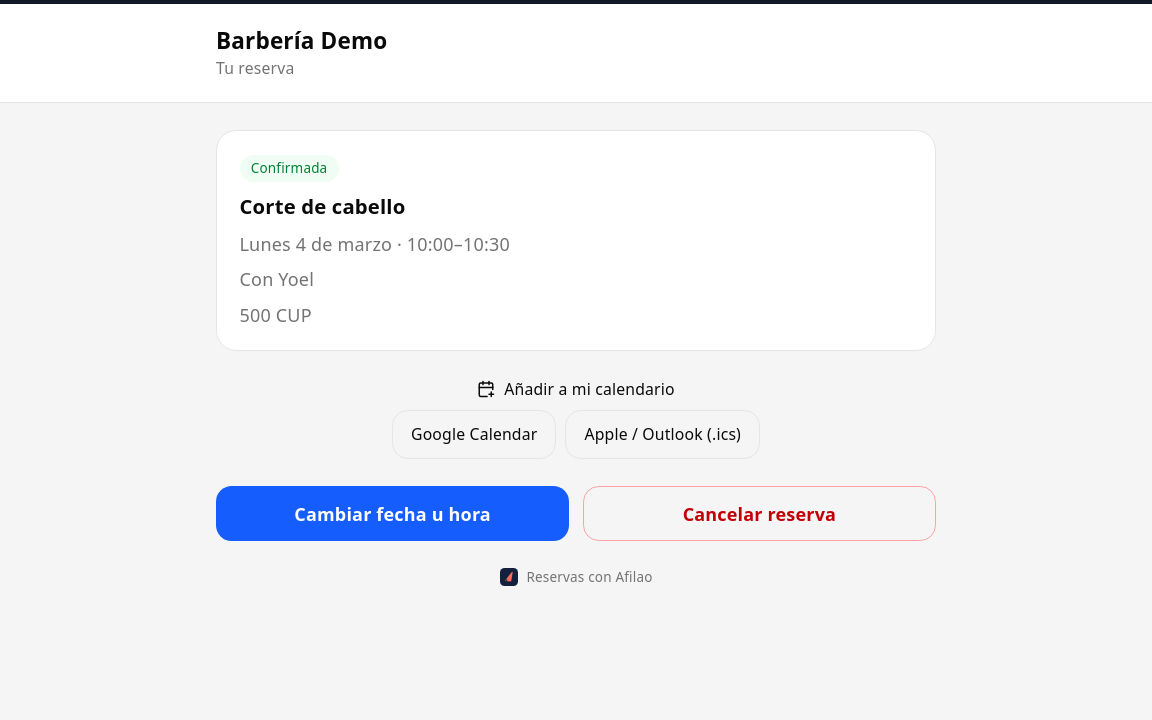
Test: Gestionar mi reserva (enlace secreto) › cancelar pide confirmación y, al aceptar, deja la reserva como cancelada
Click the button "Cancelar reserva" at coordinates (759, 514), box [583,486,936,541]
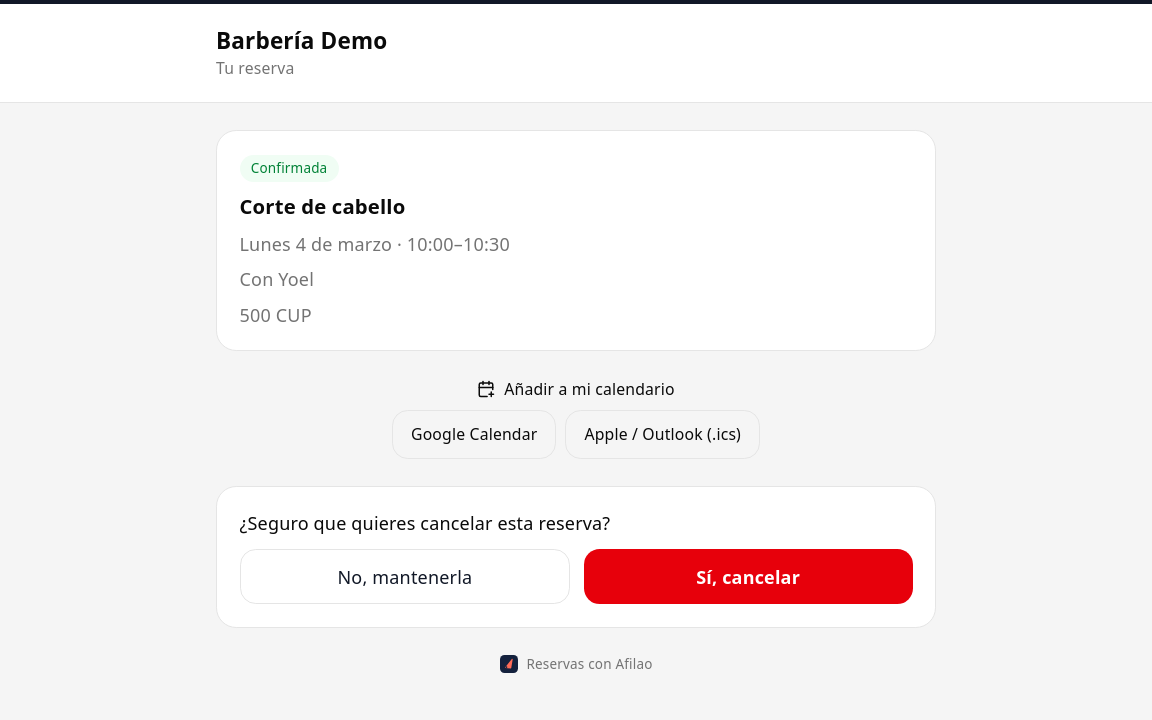
Expected: the text "¿Seguro que quieres cancelar esta reserva?" is shown, [240,511,610,535]
// «No, mantenerla» no cancela
Click the button "No, mantenerla" at coordinates (405, 577), box [240,549,570,604]
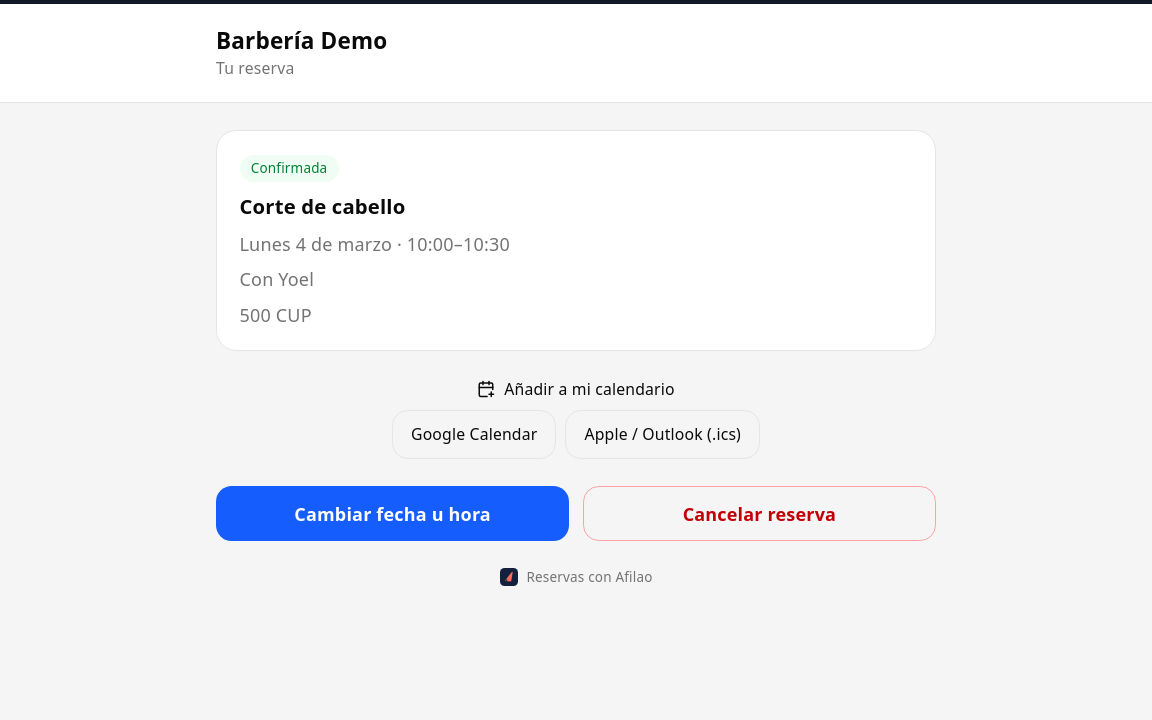
Click the button "Cancelar reserva" at coordinates (759, 514), box [583,486,936,541]
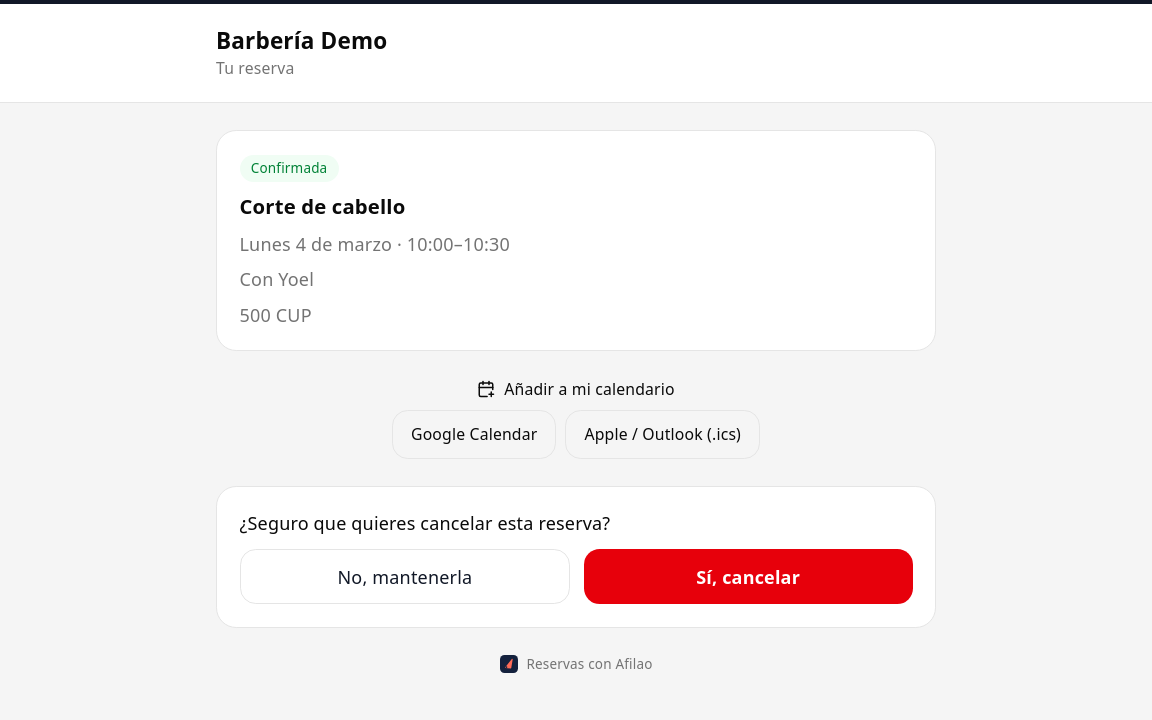
Click the button "Sí, cancelar" at coordinates (748, 577), box [584,549,913,604]
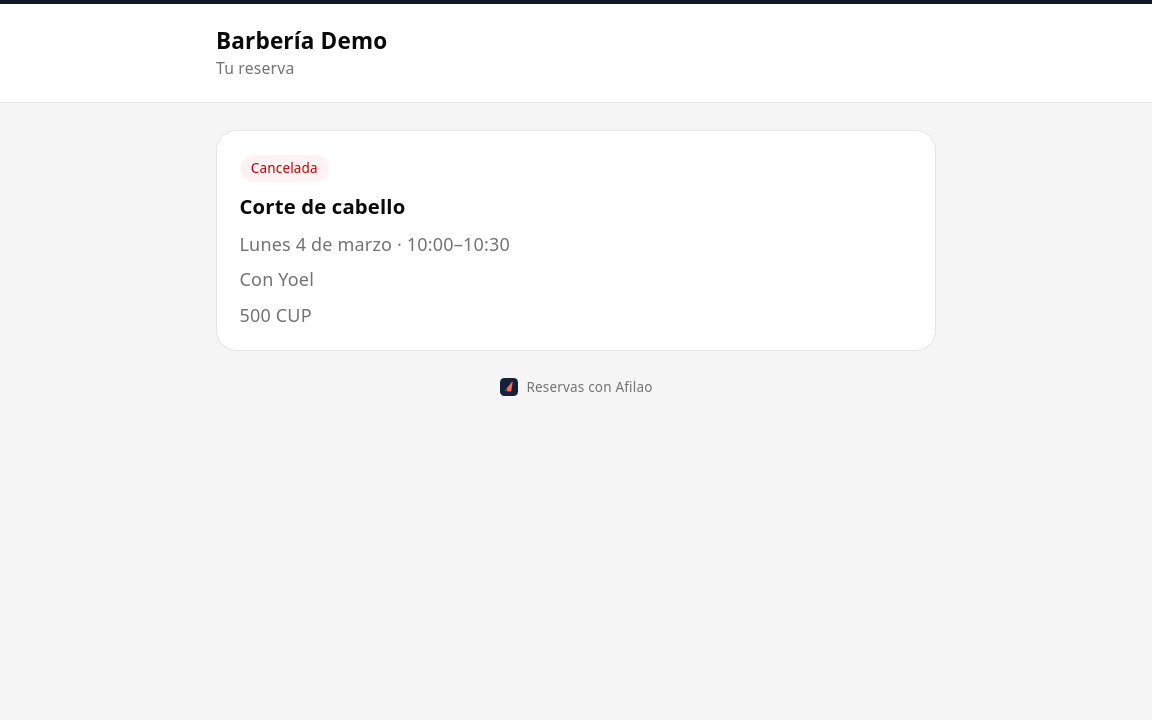
Expected: the text "Cancelada" is shown, [240,155,329,182]
Expected: the button "Cancelar reserva" is gone
